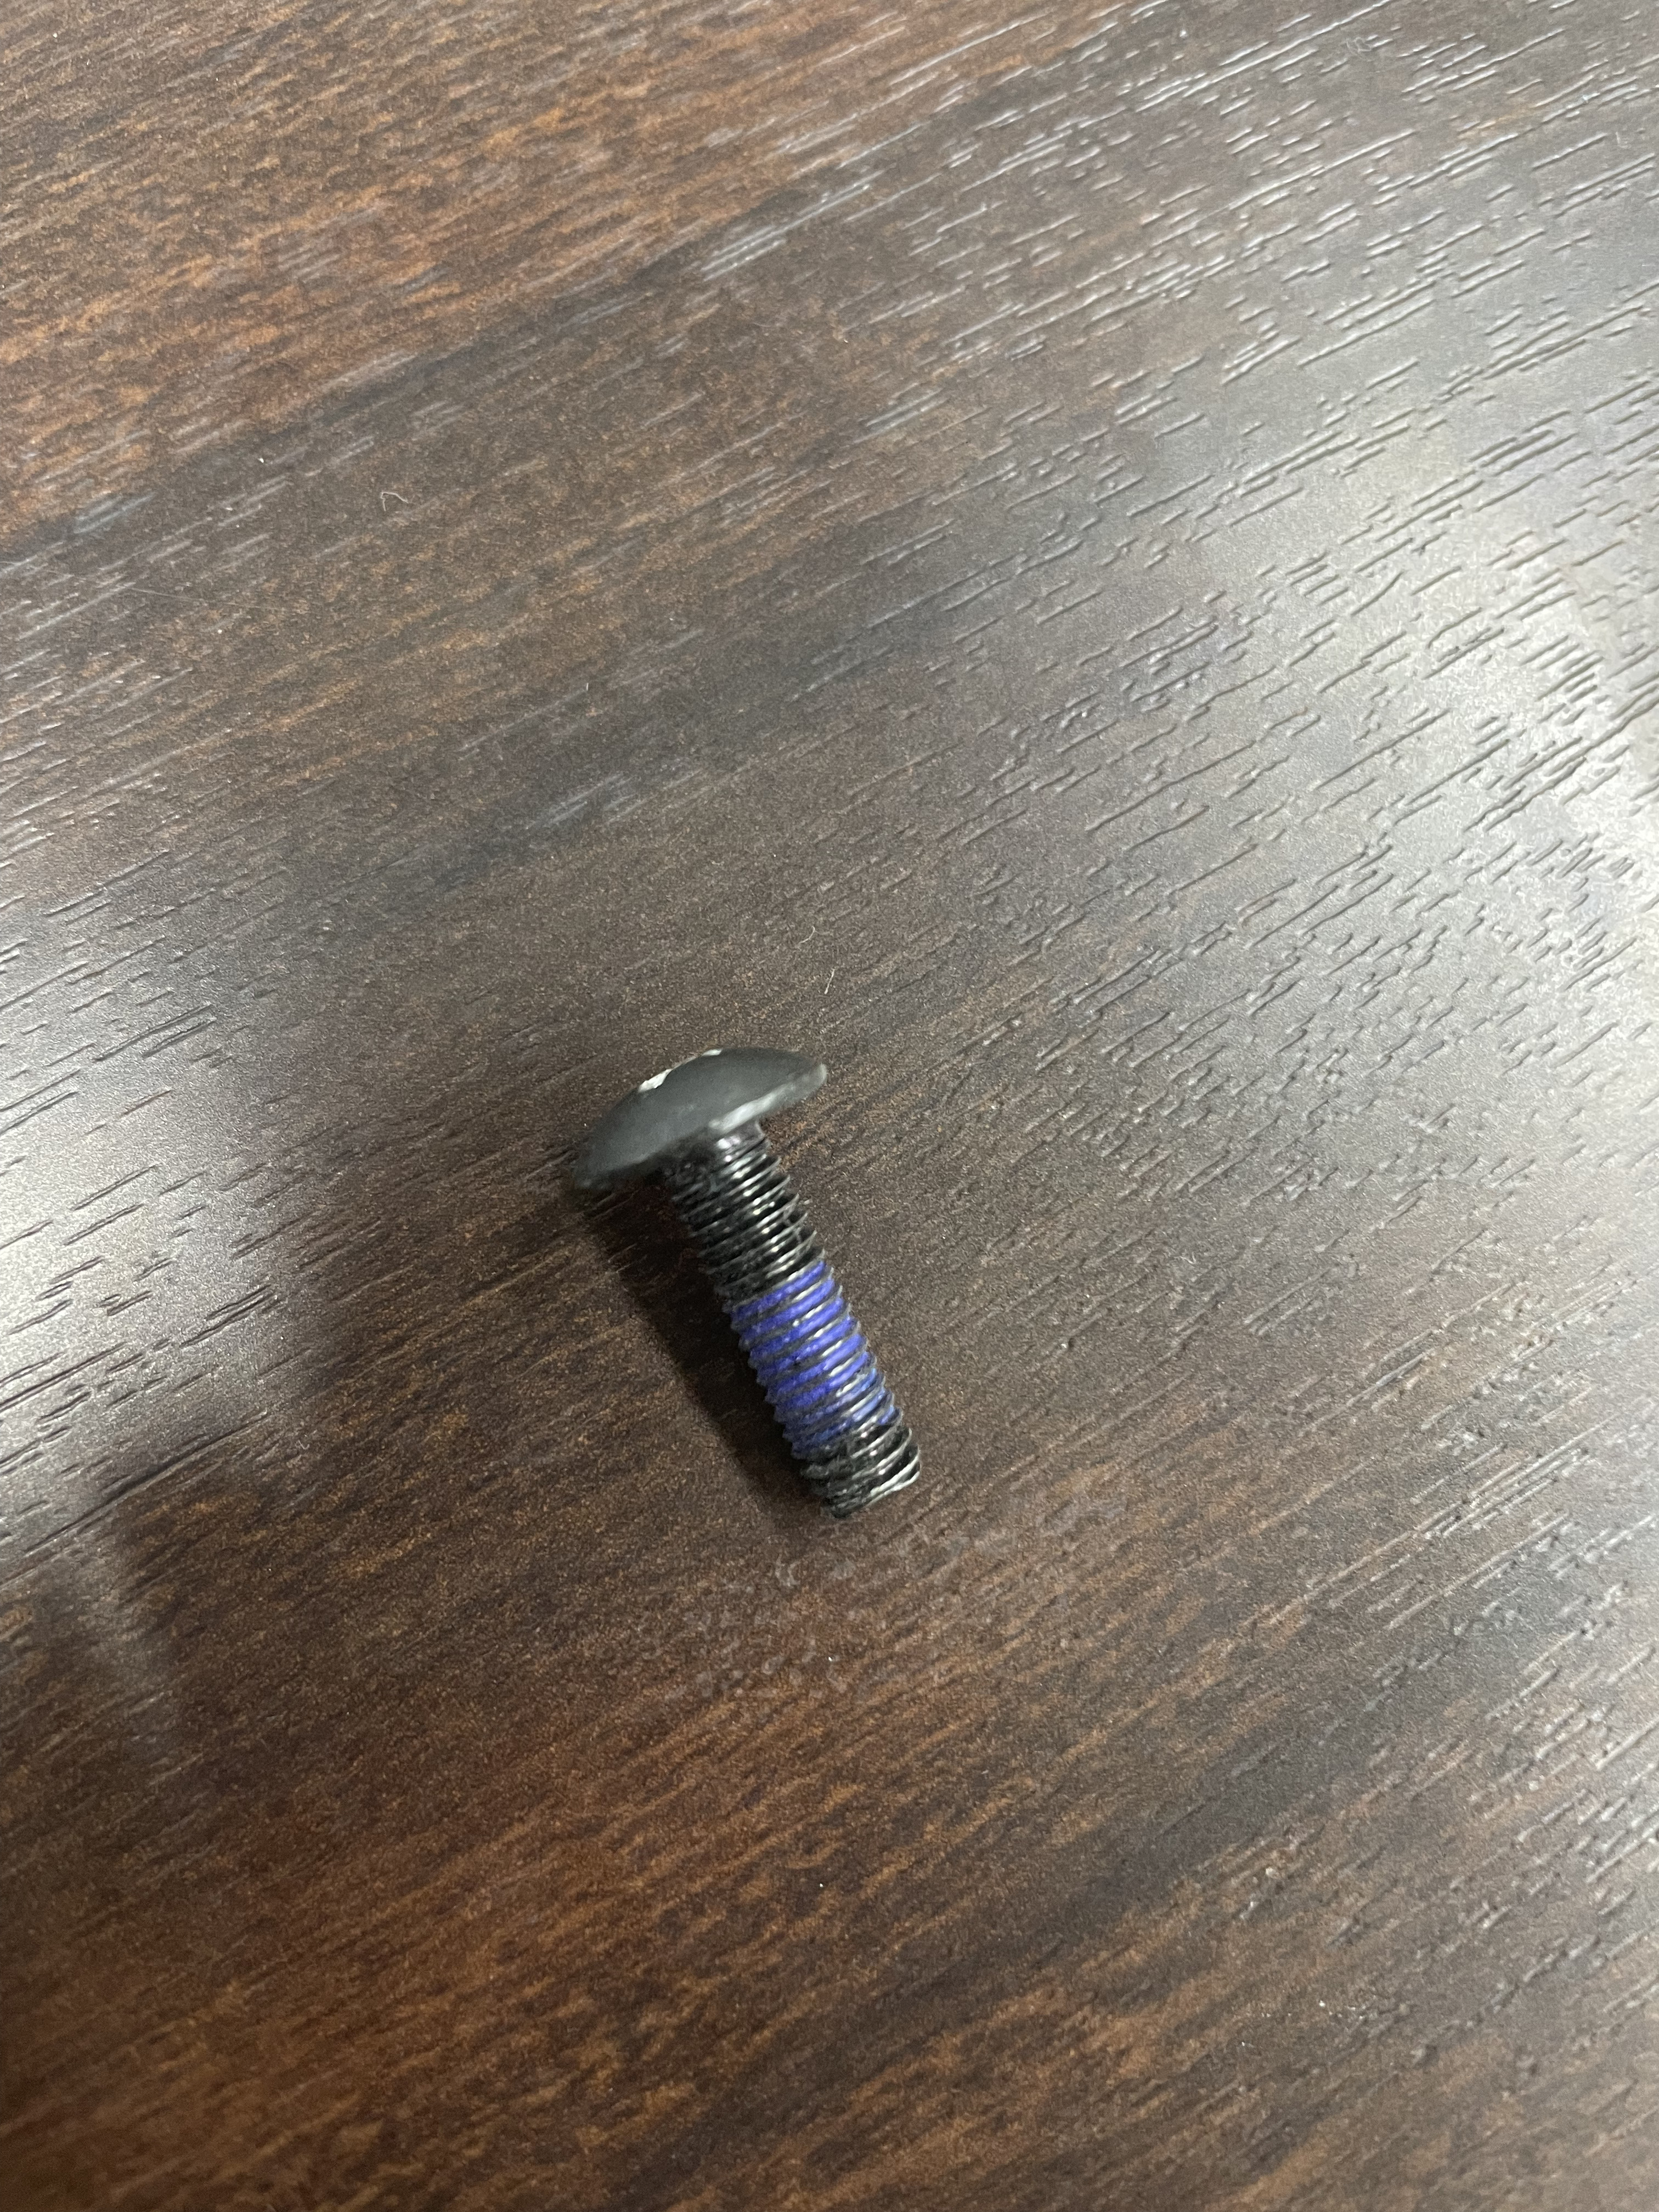screw1: (573, 1040, 928, 1520)
